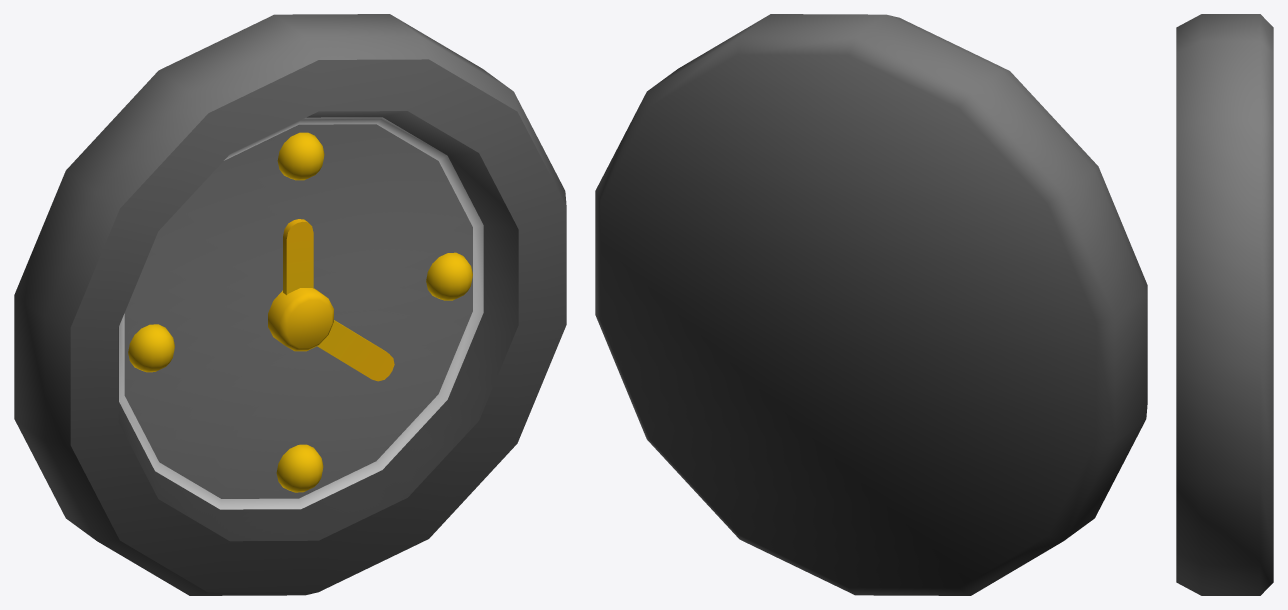
File: Clock_4.fbx
3 views of the same model, side by side, from view 1: azimuth 30°, elevation 25°; view 2: azimuth 150°, elevation 25°; view 3: azimuth 270°, elevation 25° (orthographic). The views are drawn at different scales.
Visible parts, largest first — view 1: Clock_4, Clock_4 Attach_2, Clock_4 Attach_1; view 2: Clock_4; view 3: Clock_4.
Part boxes in pixels (x1,y1,x2,y2): Clock_4: [14, 14, 566, 595]; Clock_4 Attach_2: [317, 320, 394, 381]; Clock_4 Attach_1: [283, 219, 313, 295]; Clock_4: [595, 14, 1147, 595]; Clock_4: [1176, 14, 1273, 595].
Bounding box in the file's own units: 0.3943 × 0.4044 × 0.0675.
